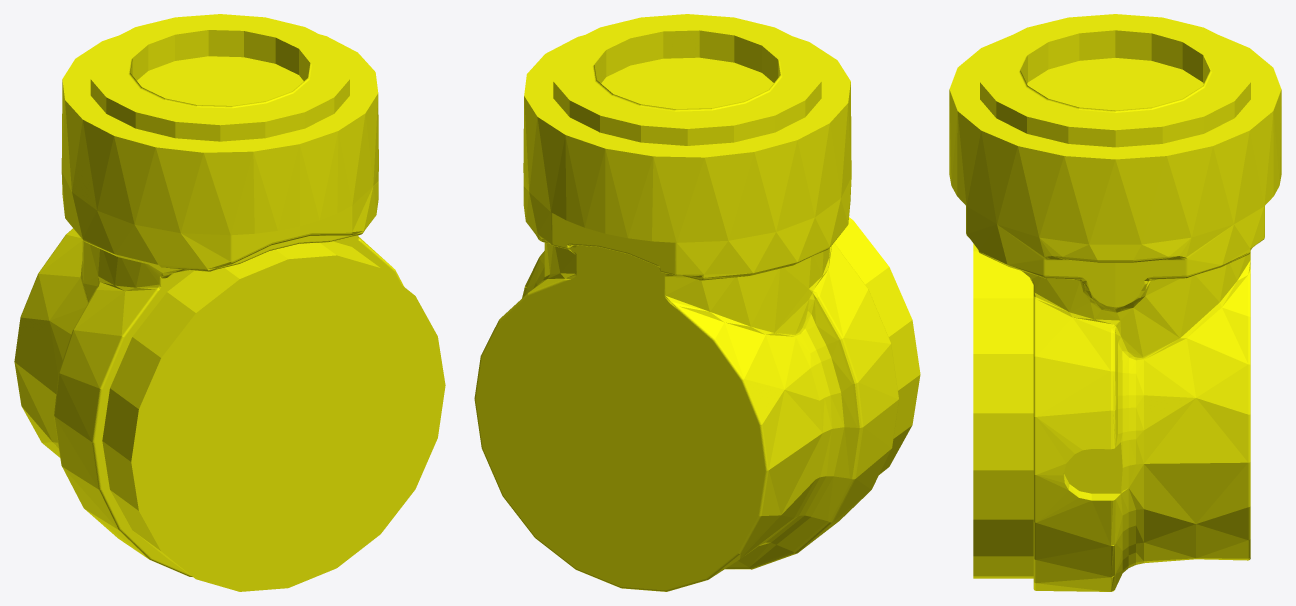
3 renders of one model, left to right at view 1: azimuth 30°, elevation 25°; view 2: azimuth 150°, elevation 25°; view 3: azimuth 270°, elevation 25°, orthographic. The views are drawn at different scales.
Parts seen in each view (by area): view 1: node; view 2: node; view 3: node.
Part boxes in pixels (bbox=[...]): node: bbox=[14, 14, 445, 591]; node: bbox=[474, 14, 920, 591]; node: bbox=[949, 14, 1281, 591].
Size of the model in its own units: 85.19 by 117 by 70.
